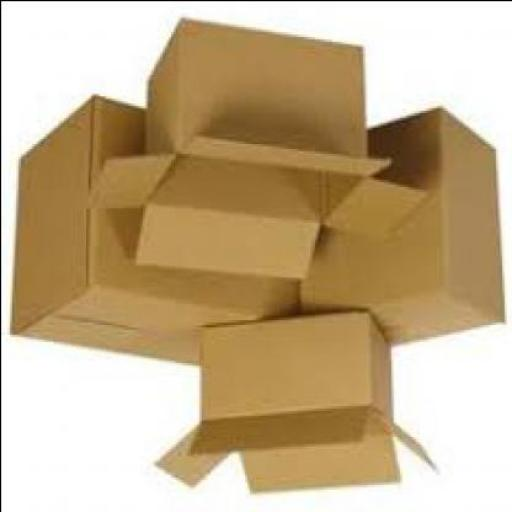cardboard: (83, 22, 420, 281), (7, 96, 298, 366), (148, 312, 436, 493), (296, 109, 502, 348)
